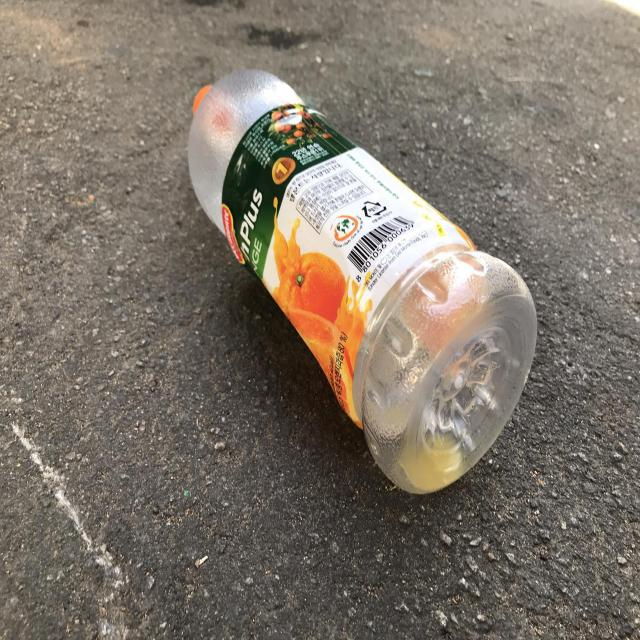plastic: (187, 68, 538, 494)
